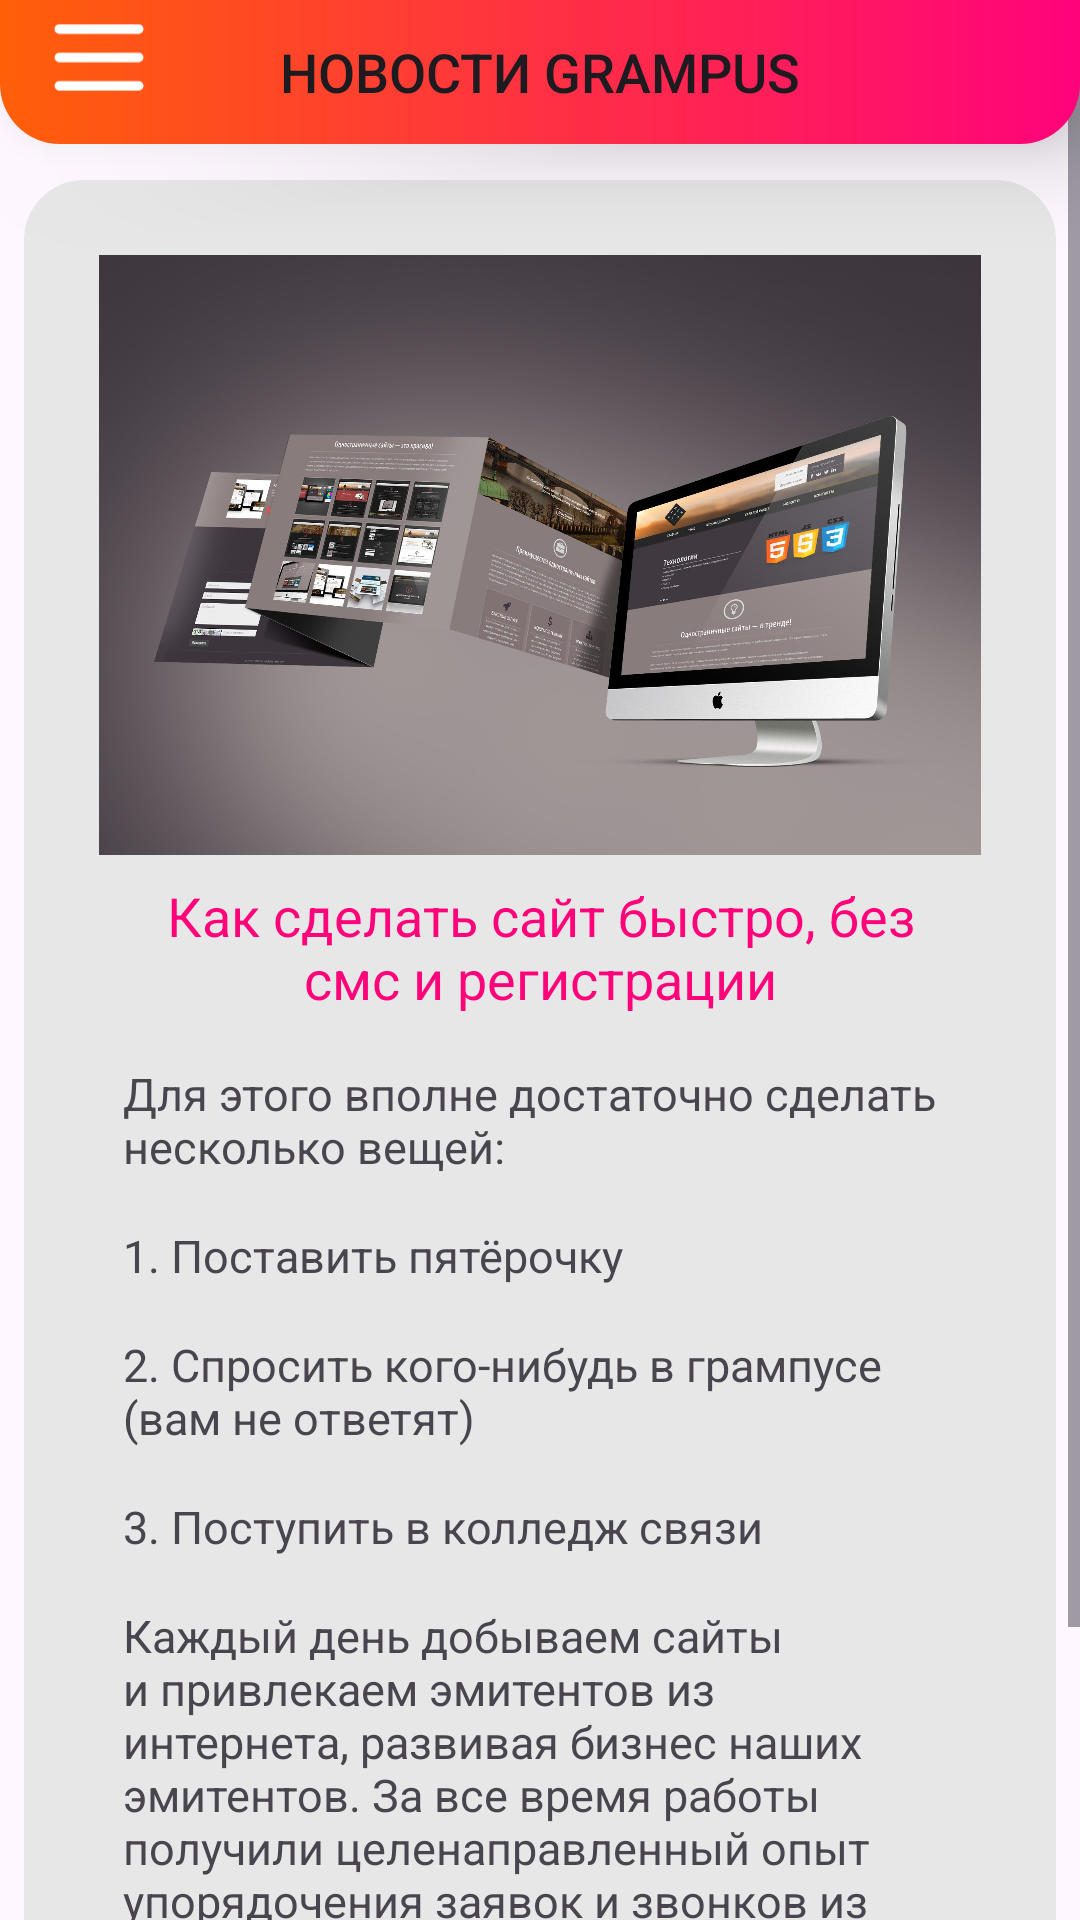

Screen size 1080px×1920px. Icon name, then its box in pixels as (x1, y1, x2, y2):
burger menu: (54, 24, 144, 91)
